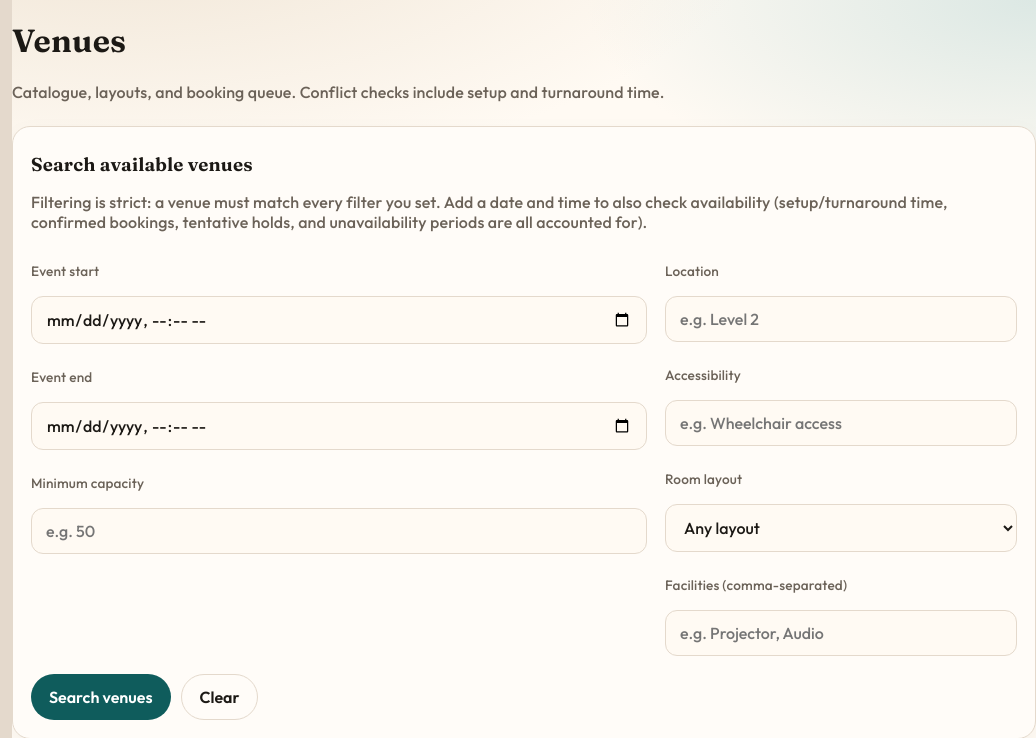
Test: SCUM-24 venue search results › always renders whatever the latest search response says, not a stale previous one
Click the button "Search venues" at (101, 697), box [31,674,170,720]
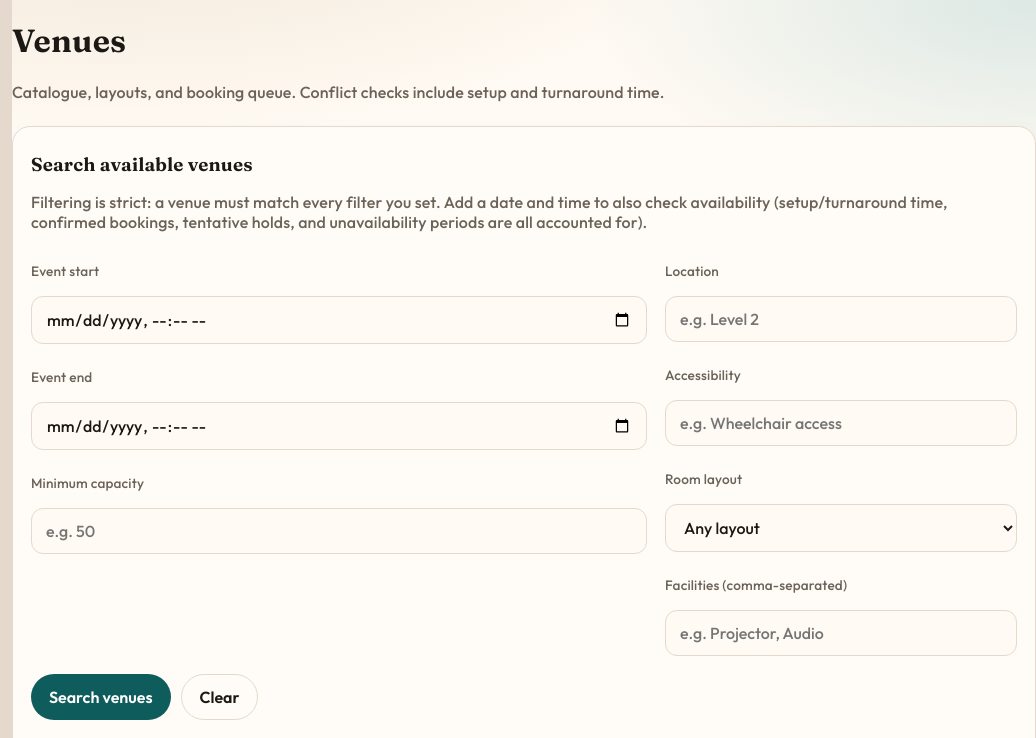
Click the button "Search venues" at (101, 697), box [31,674,170,720]
(page scrolled)
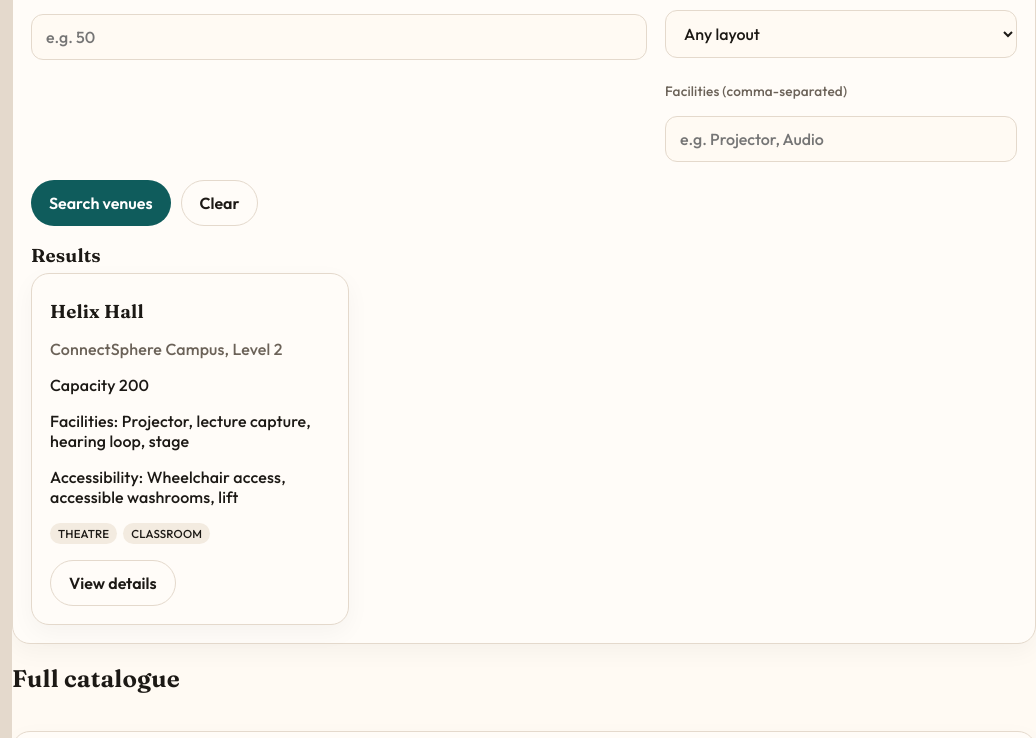
Now the text "Capacity 200" is shown, box [50,375,149,395]
